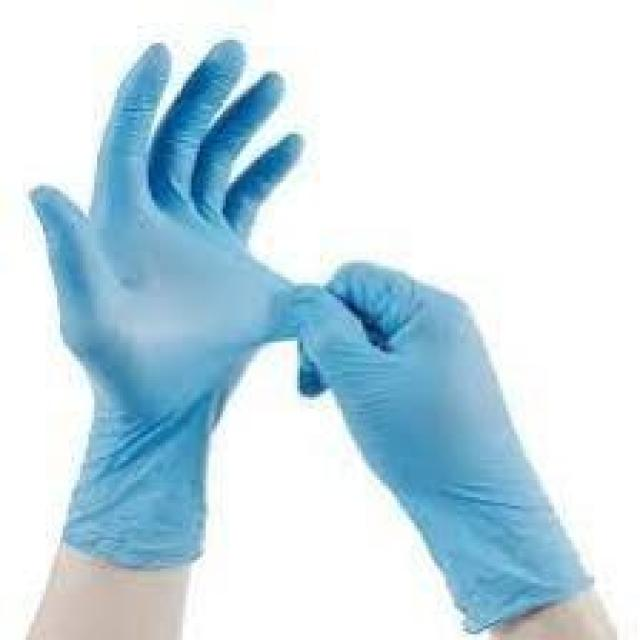Glove: (30, 30, 630, 632)
